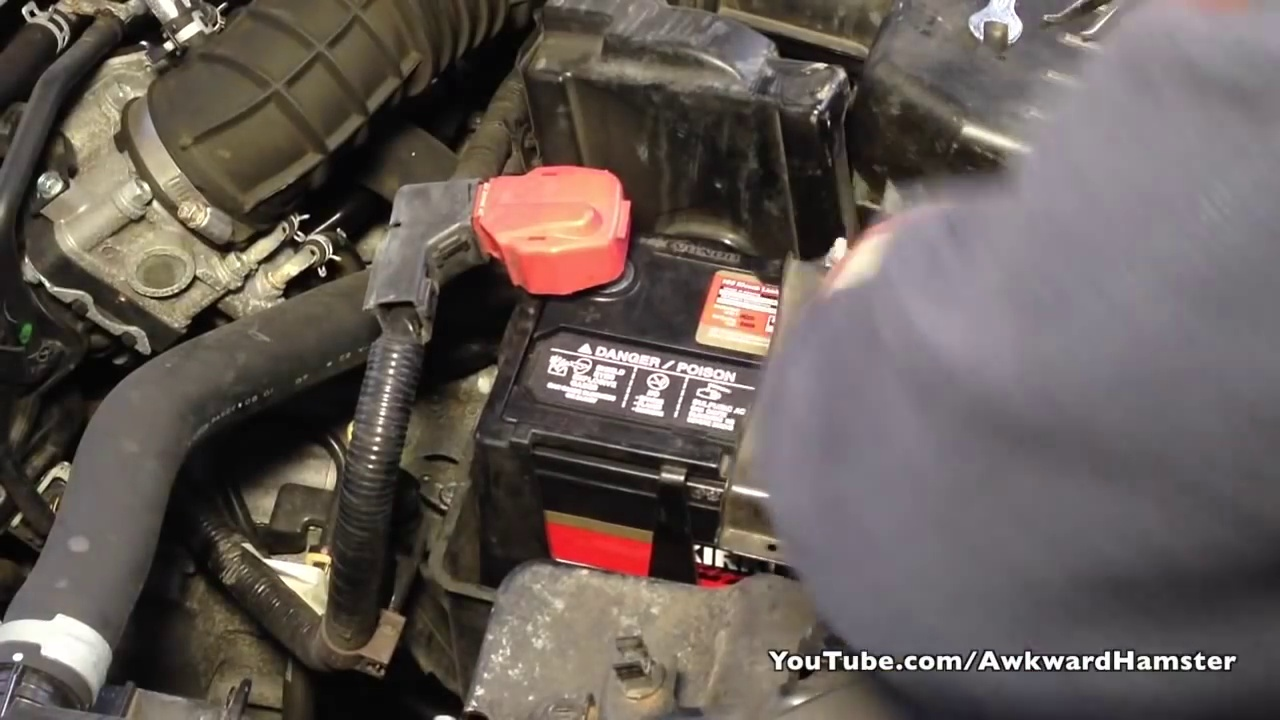battery: (472, 227, 795, 495)
pos_connected: (465, 162, 653, 307)
